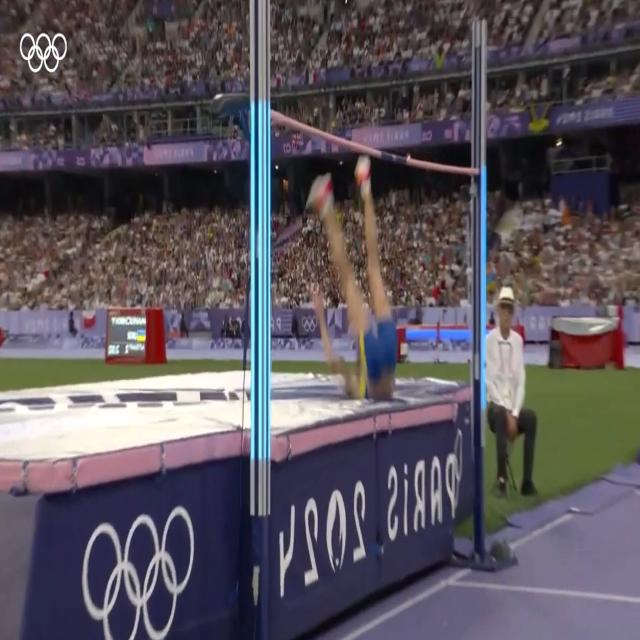land: (306, 157, 398, 402)
